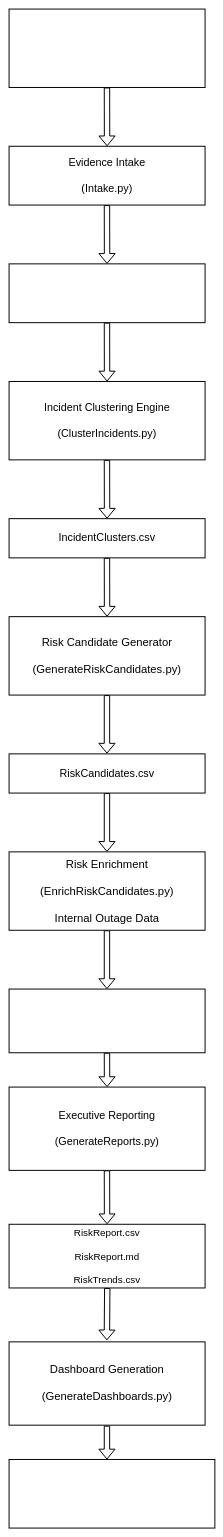
This 223x1537 diagram has some shape labels left out. Each missing label, with the centre of its shape:
"Dashboard_Risks.csv Dashboard_RiskEvidence.csv" goes at (x=111, y=1493).
"Evidence Cache (EvidenceCache.csv)" goes at (x=106, y=293).
"External Intelligence Sources (News, Cyber Reports, RSS)" goes at (x=106, y=48).
"RiskCandidates_Enriched.csv" goes at (x=106, y=1020).
